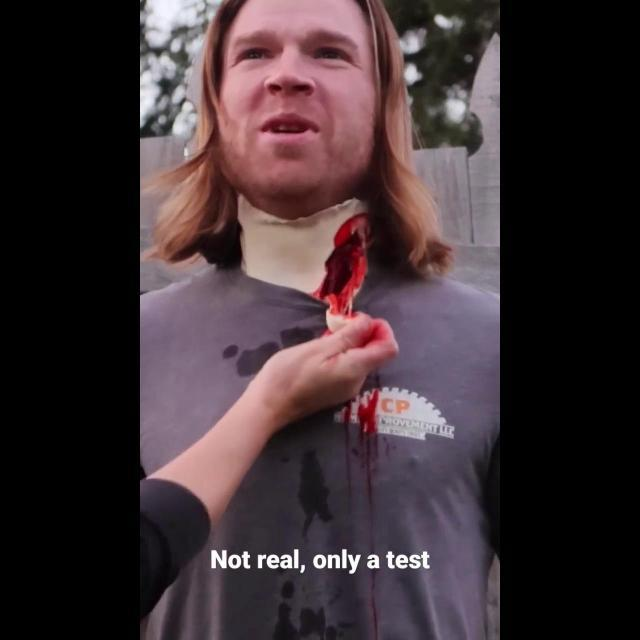blood: (312, 212, 370, 317), (358, 387, 379, 551), (344, 402, 354, 487), (370, 570, 378, 640)
